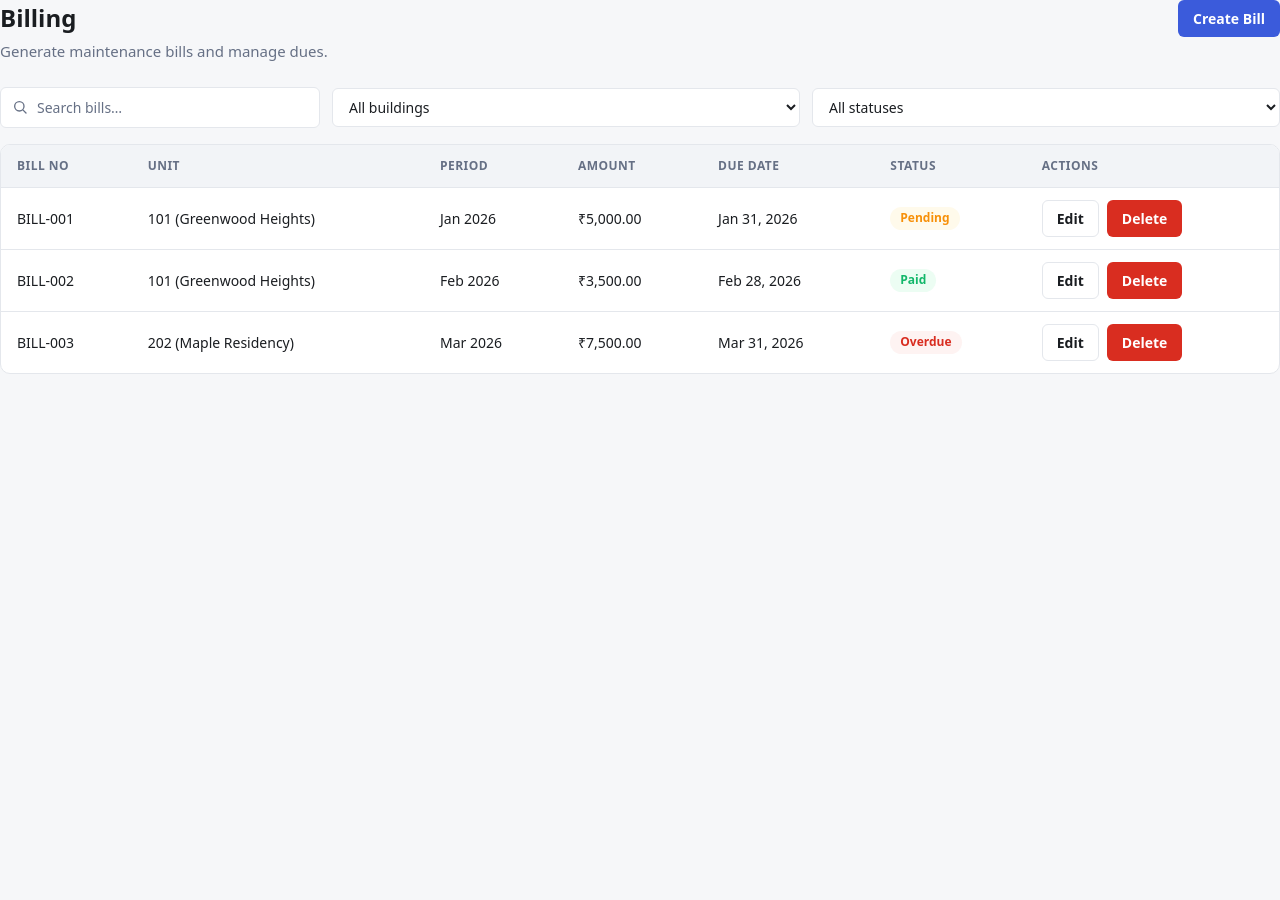
Test case: BillingPage CRUD functionality › creates a bill and refreshes
The image size is (1280, 900).
Expected: the text "BILL-001" is shown, x1=1 y1=187 x2=132 y2=249
Click the button "Create Bill" at (1229, 18), box x1=1178 y1=0 x2=1279 y2=37
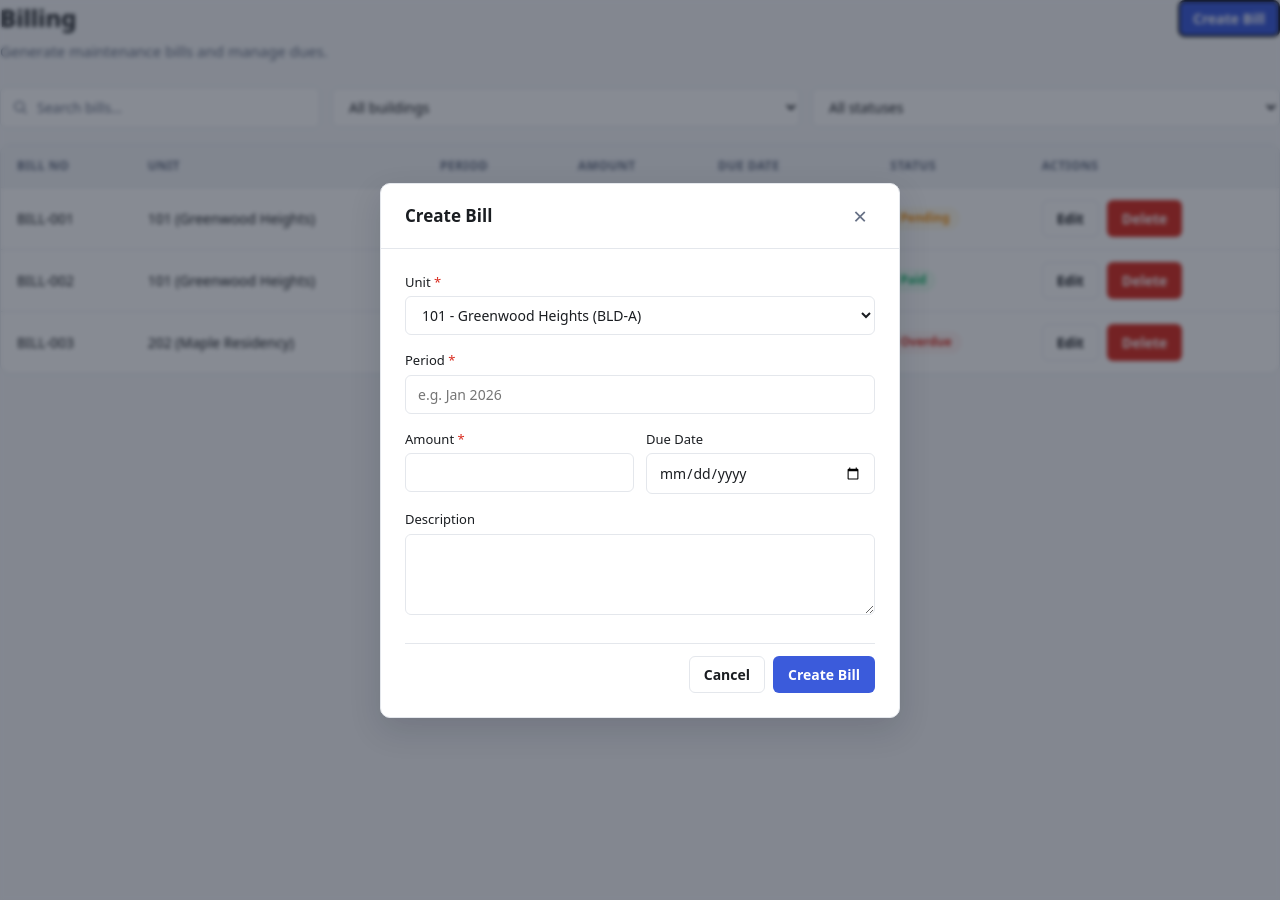
Select "101 - Greenwood Heights (BLD-A)" in the dropdown labelled "Unit *" at (640, 316), box x1=405 y1=296 x2=875 y2=335
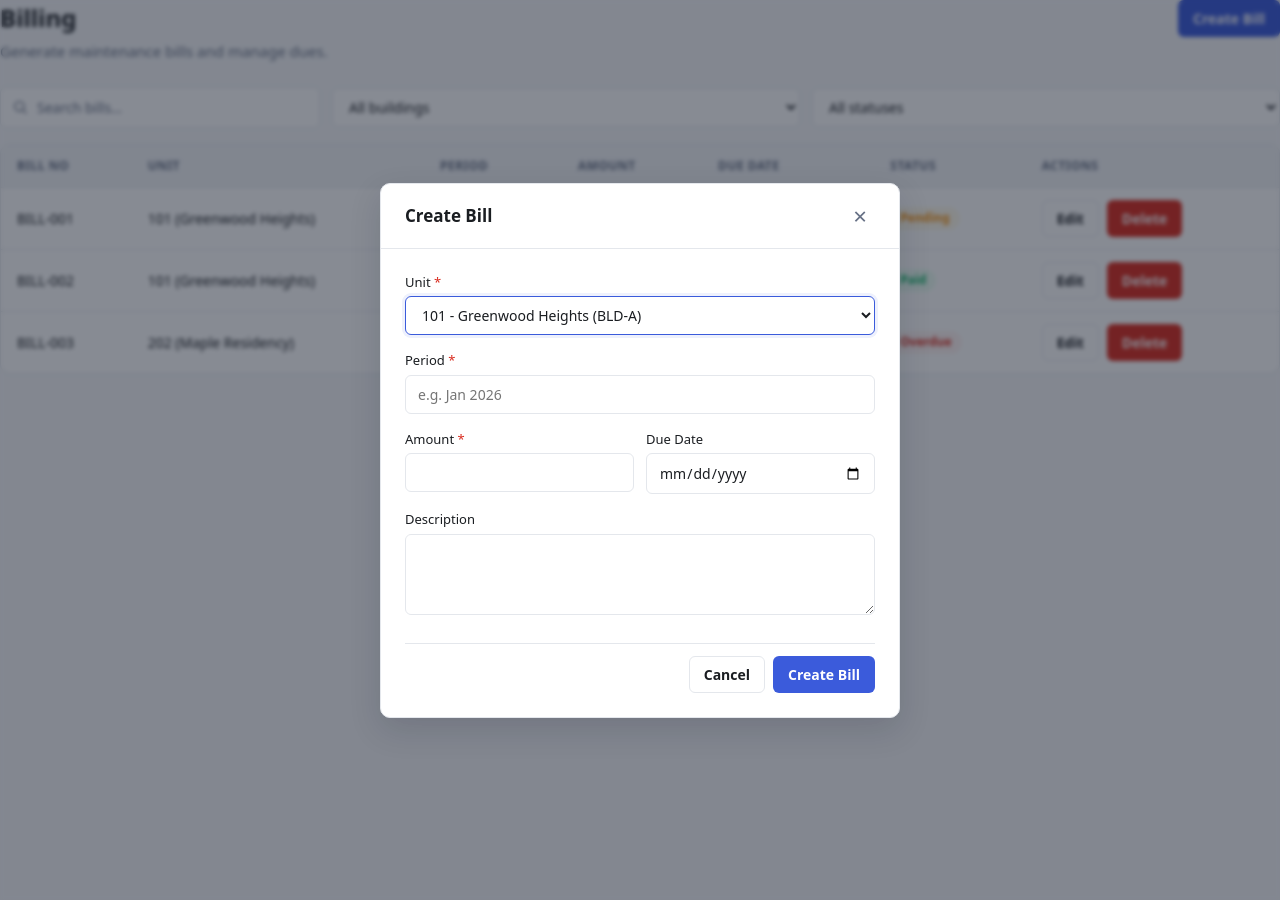
Type "Apr 2026" into the field labelled "Period *" at (640, 394), box x1=405 y1=374 x2=875 y2=414
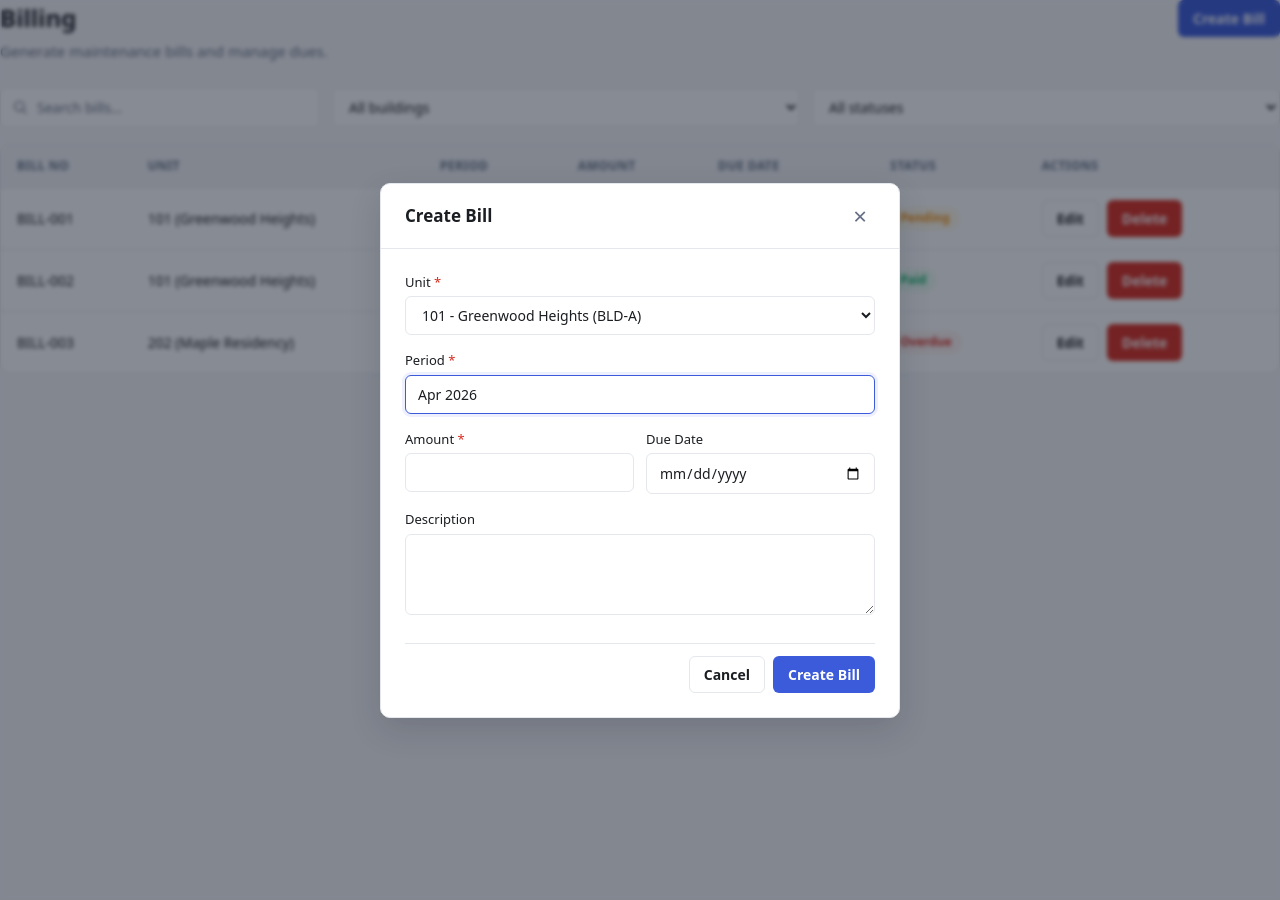
Type "4500" into the number field labelled "Amount *" at (520, 472), box x1=405 y1=453 x2=634 y2=492
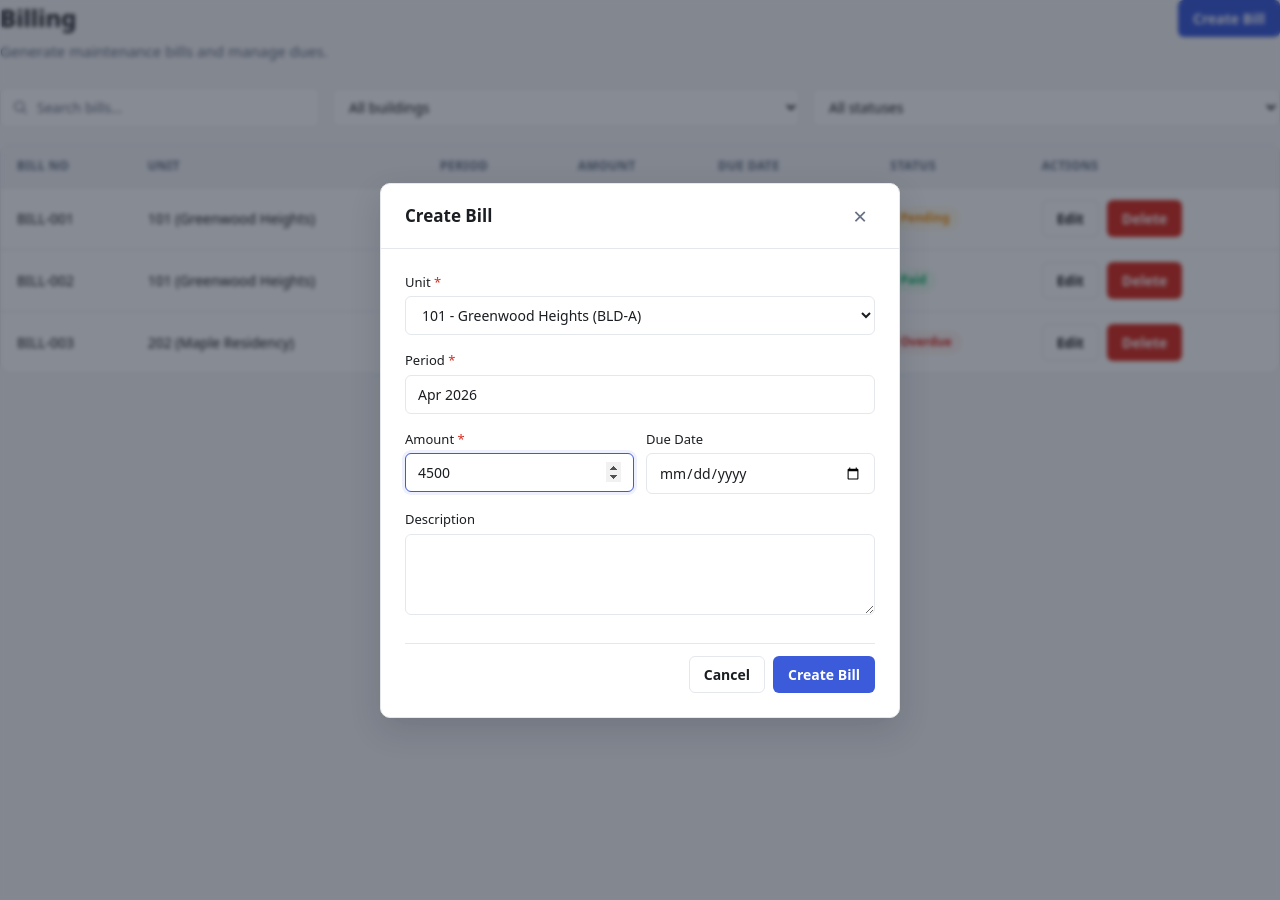
Type "New bill" into the text box labelled "Description" at (640, 574), box x1=405 y1=534 x2=875 y2=614
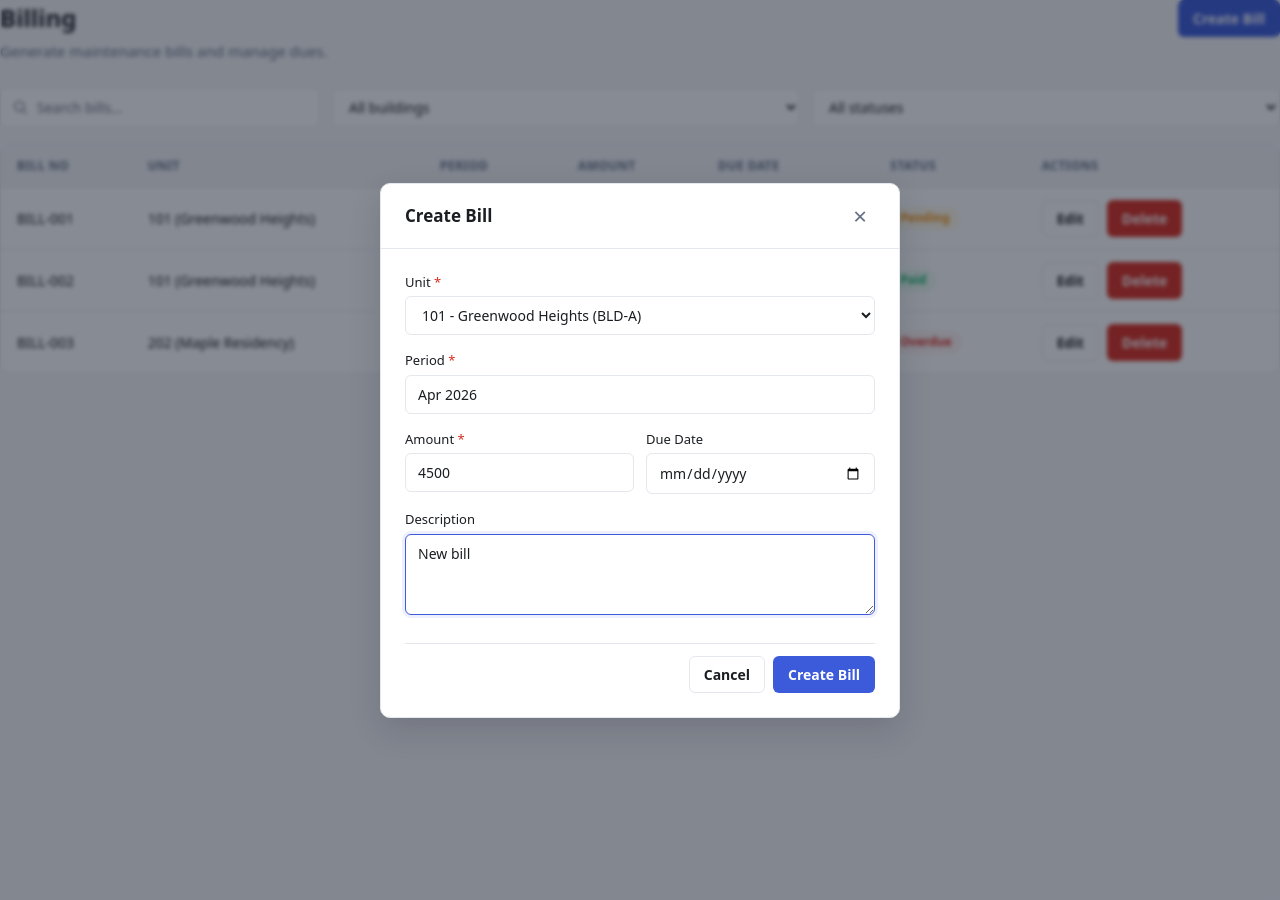
Click the button "Create Bill" at (824, 674), box x1=773 y1=656 x2=875 y2=692
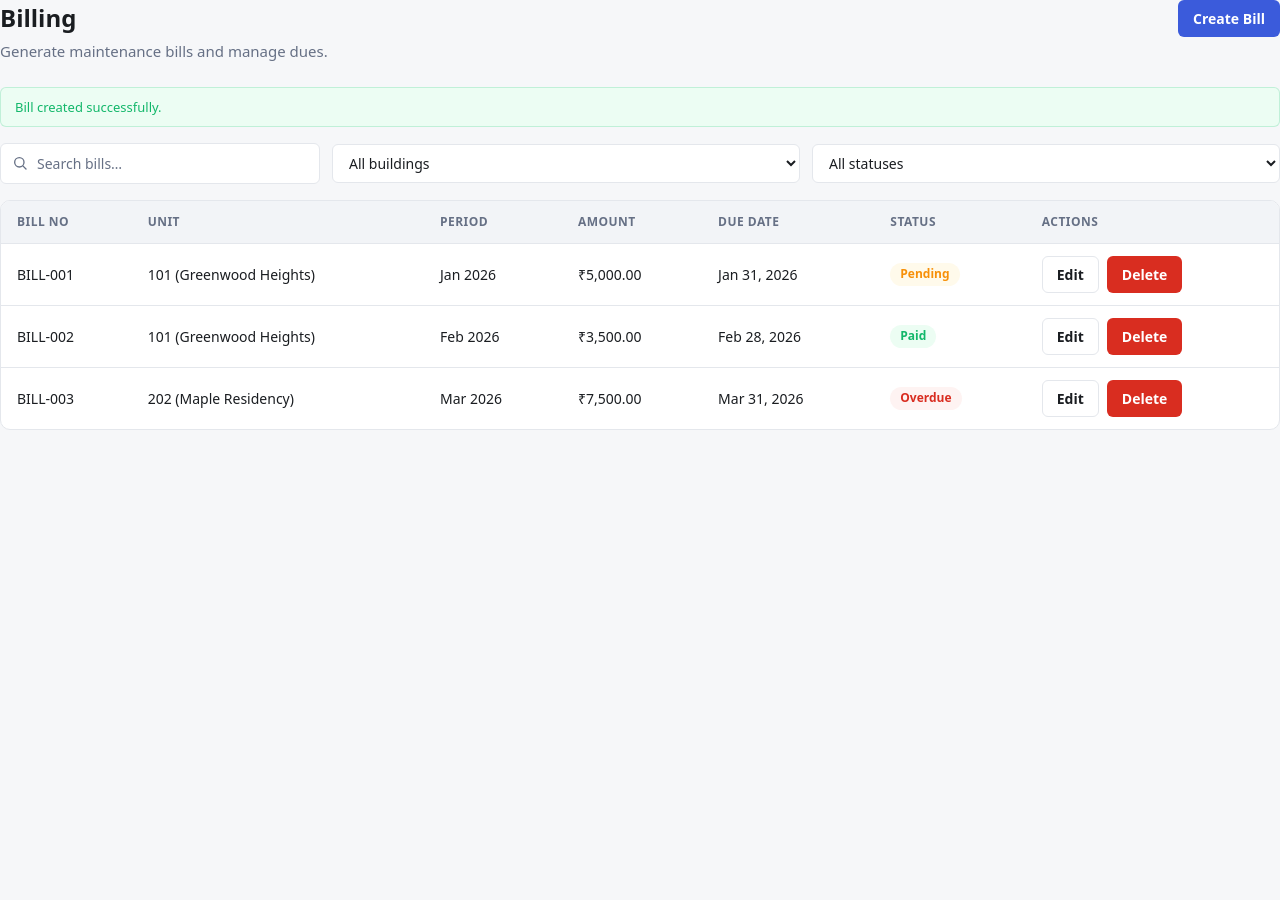
Expected: the text "Bill created successfully." is shown, x1=0 y1=86 x2=1279 y2=127
Expected: the dialog is gone
